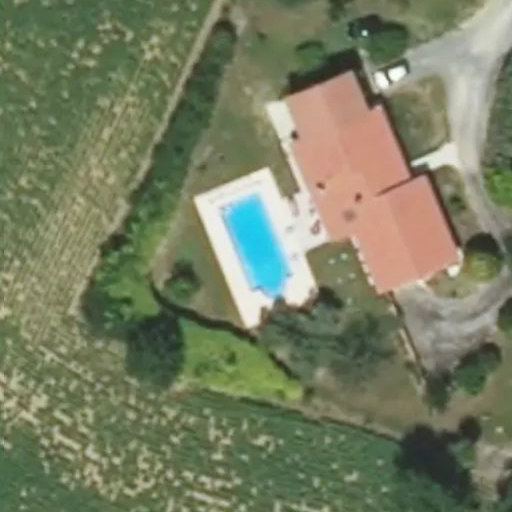pool: (219, 210, 292, 273)
